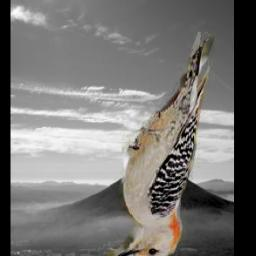Woodpecker: (105, 33, 216, 256)
